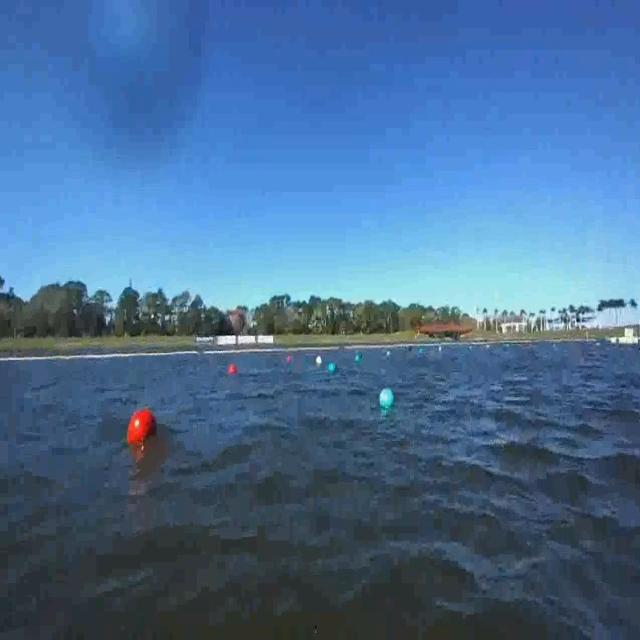green-buoy: (378, 386, 392, 408)
red-buoy: (129, 408, 161, 444)
